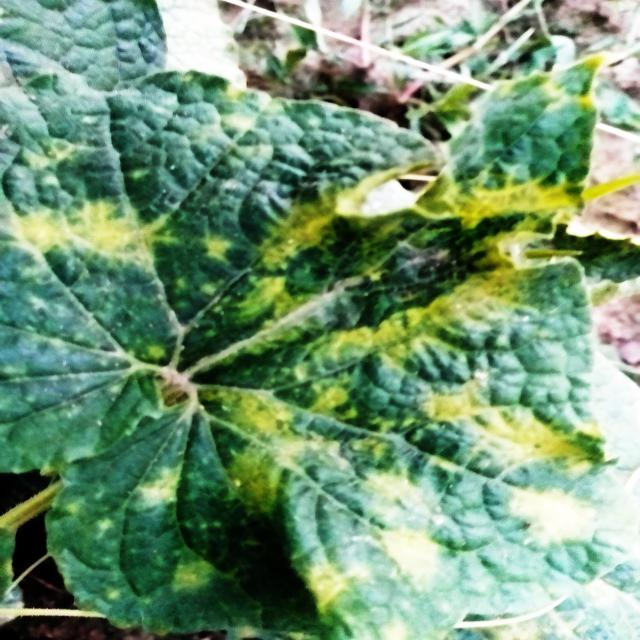Downy-Mildew: (0, 56, 640, 638)
